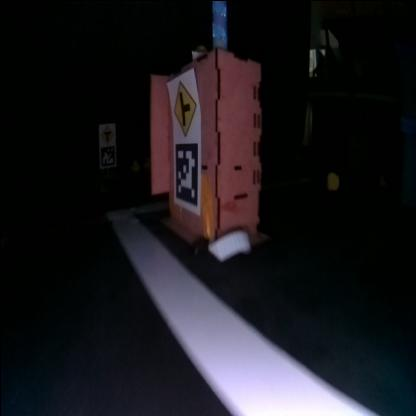Duckie: (326, 170, 338, 188), (130, 159, 138, 169), (142, 157, 148, 165)
Intersection sign: (170, 78, 196, 134), (99, 124, 113, 142)
QR code: (173, 141, 196, 205), (99, 144, 114, 165)
